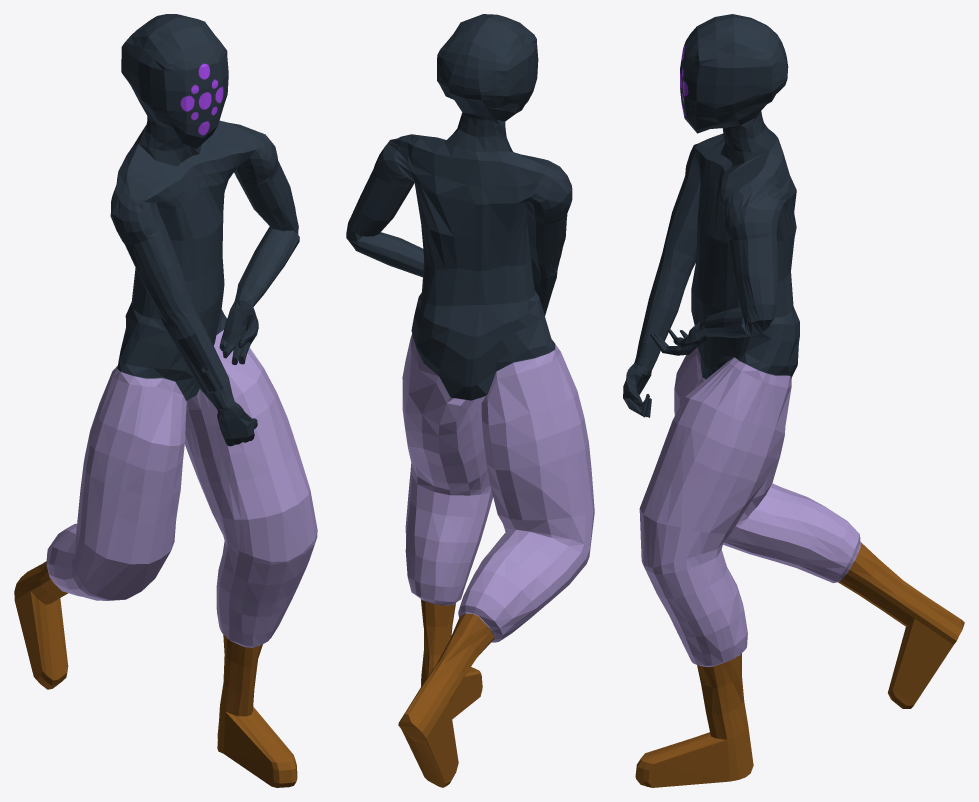
File: Oracle_Run_000004.obj
3 views of the same model, side by side, from view 1: azimuth 30°, elevation 25°; view 2: azimuth 150°, elevation 25°; view 3: azimuth 270°, elevation 25° (orthographic). The views are drawn at different scales.
Parts seen in each view (by area): view 1: Cube; view 2: Cube; view 3: Cube.
Boxes of the visible parts, x1=… form: Cube: x1=14, y1=14, x2=317, y2=787; Cube: x1=346, y1=14, x2=594, y2=787; Cube: x1=623, y1=14, x2=964, y2=787.
Bounding box in the file's own units: 1.25 × 3.8 × 1.6.
